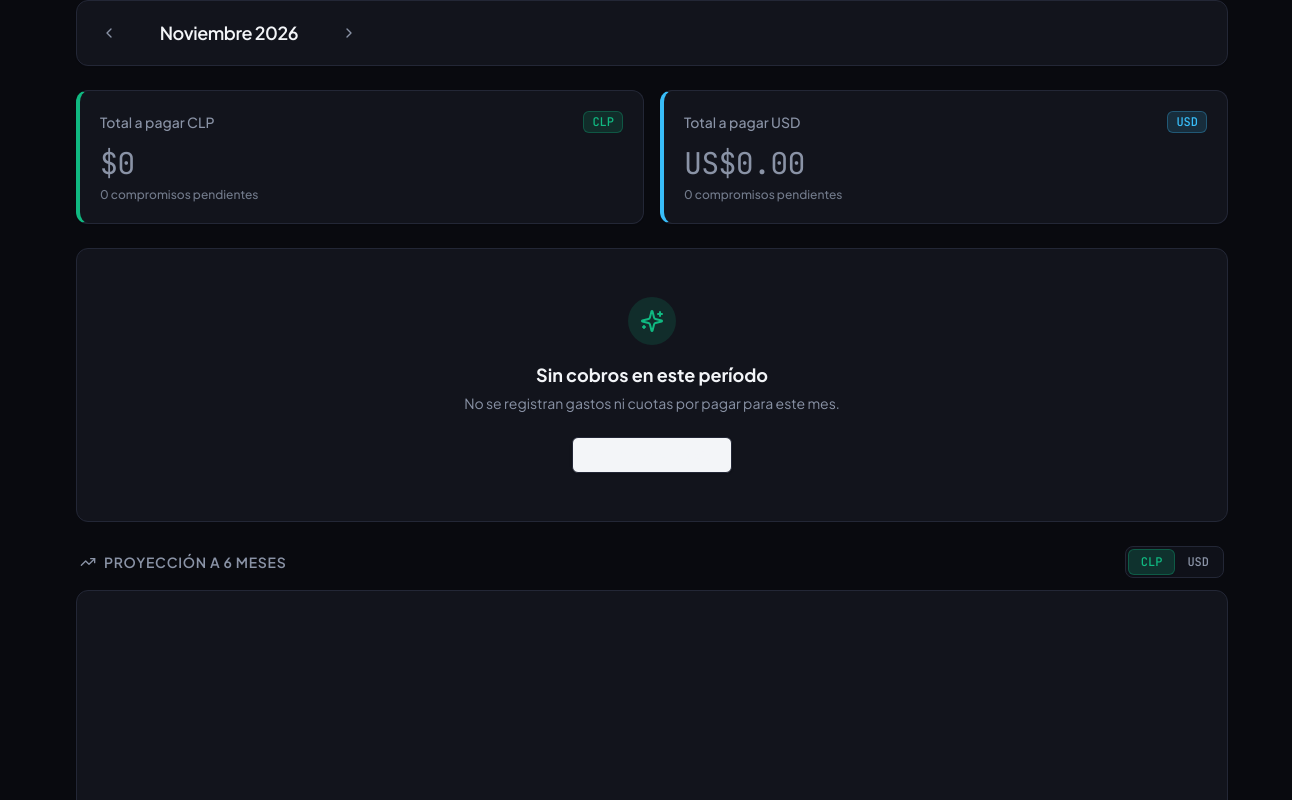
Dashboard E2E Integration Suite › 5. Peaceful zero-state renders friendly message and opens QuickExpenseDrawer via CTA
The width and height of the screenshot is (1292, 800).
Expected: the heading "Sin cobros en este período" is shown, [536,363,768,386]
Click the button "Registrar gasto".
click(652, 455)  # box [572,437,732,473]
(page scrolled)
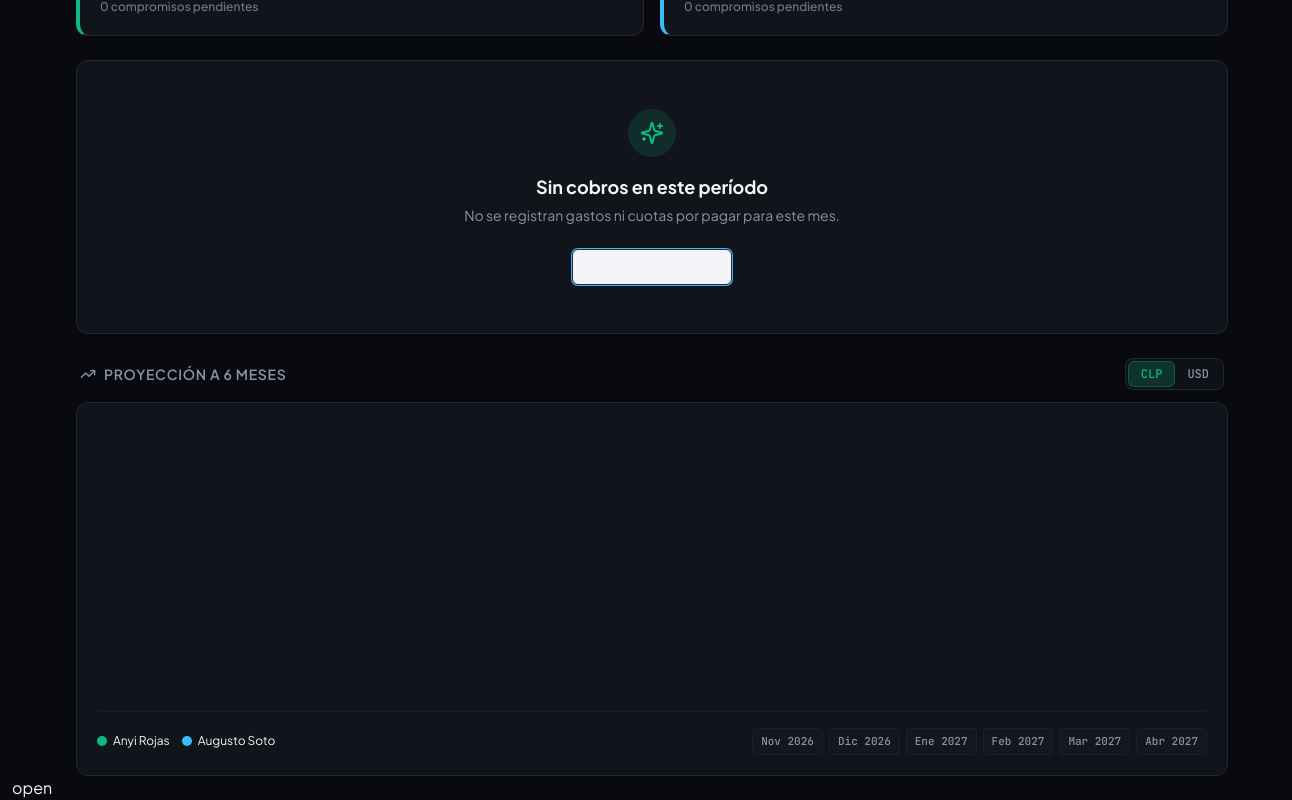
Expected: the text with test id "quick-expense-status" reads "open", [12,776,52,798]
